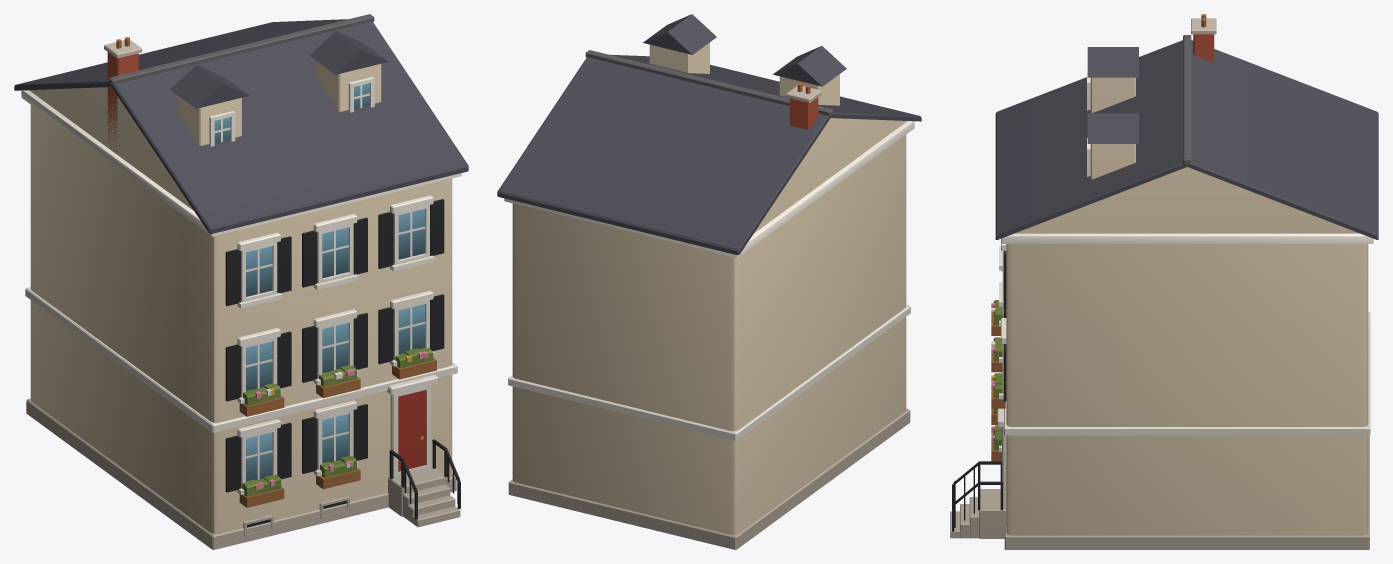
Rendered from lane_e8.glb.
3 renders of one model, left to right at view 1: azimuth 30°, elevation 25°; view 2: azimuth 150°, elevation 25°; view 3: azimuth 270°, elevation 25°, orthographic. The views are drawn at different scales.
Parts seen in each view (by area): view 1: lane_e8; view 2: lane_e8; view 3: lane_e8.
Part boxes in pixels (x1=…): lane_e8: x1=14, y1=14, x2=468, y2=549; lane_e8: x1=497, y1=14, x2=921, y2=549; lane_e8: x1=950, y1=14, x2=1378, y2=549.
Size of the model in its own units: 9.8 by 15.45 by 14.21.
1 material, 1 textured.
